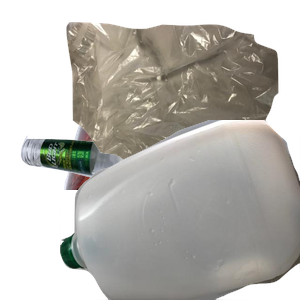glass: (18, 124, 258, 300)
metal: (62, 47, 300, 227)
plastic: (60, 120, 300, 300)
trash: (64, 20, 300, 200)
